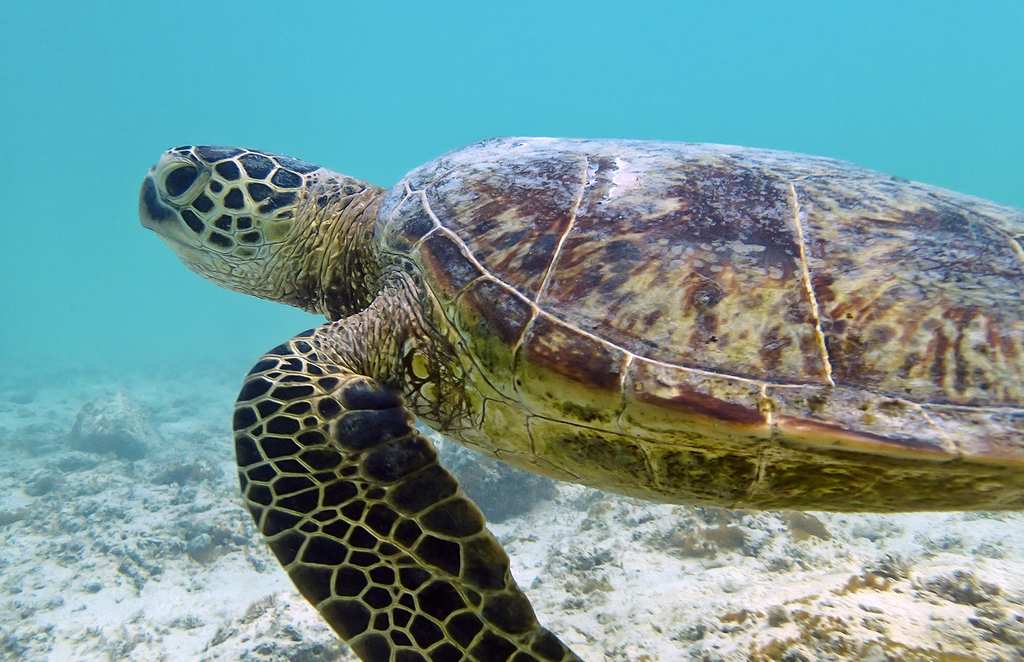Sea turtles: (135, 126, 1023, 661)
